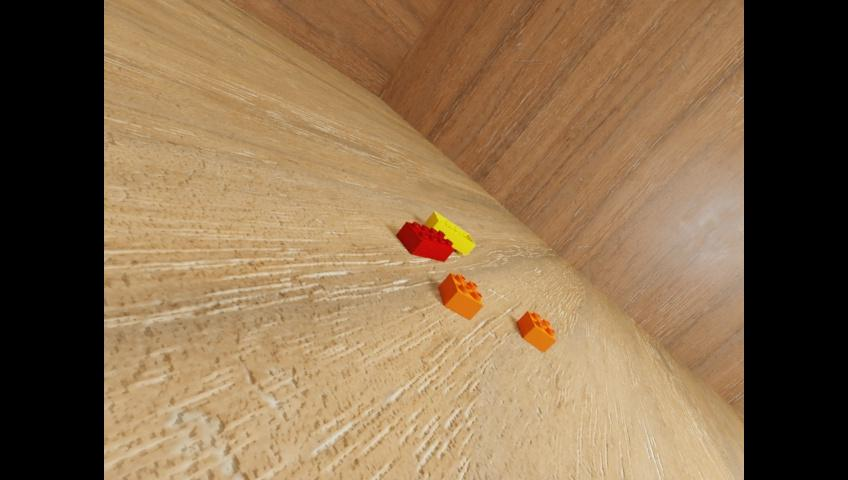2x2_orange: (438, 271, 482, 319), (516, 310, 555, 352)
4x2_red: (397, 220, 453, 261)
4x2_yellow: (425, 211, 474, 255)
